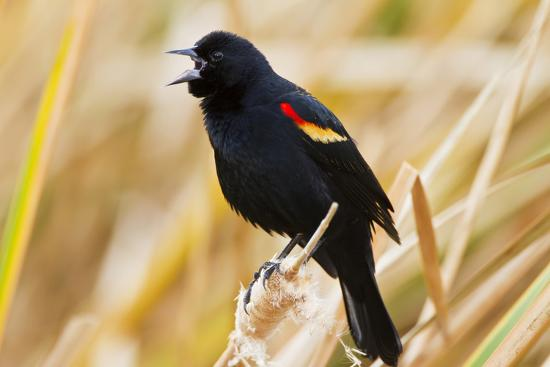bird: (186, 33, 385, 306)
